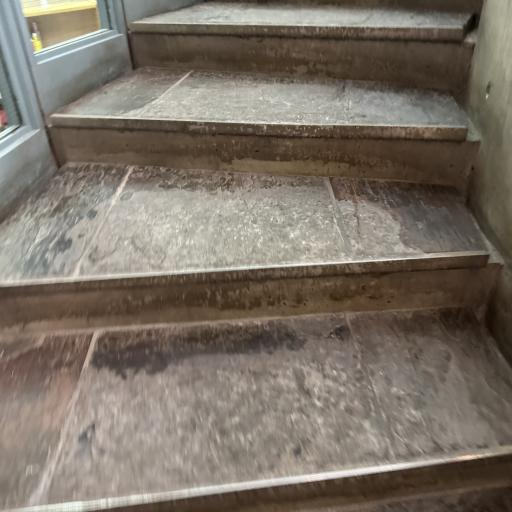Stairs: (0, 0, 512, 512), (0, 309, 512, 512), (0, 164, 500, 328), (51, 68, 479, 191), (129, 2, 475, 98)
